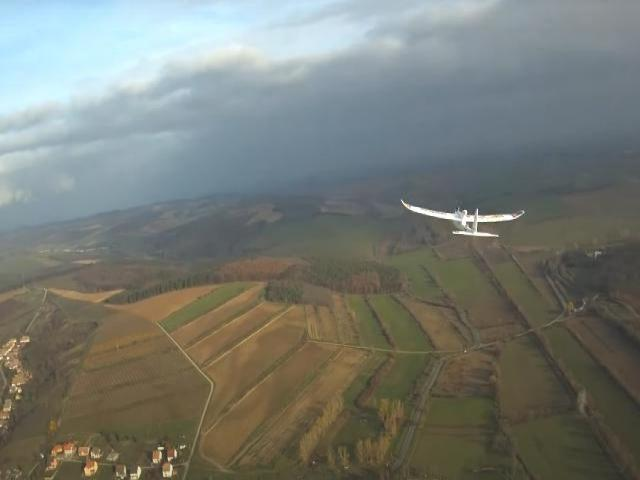iha: (396, 188, 528, 238)
